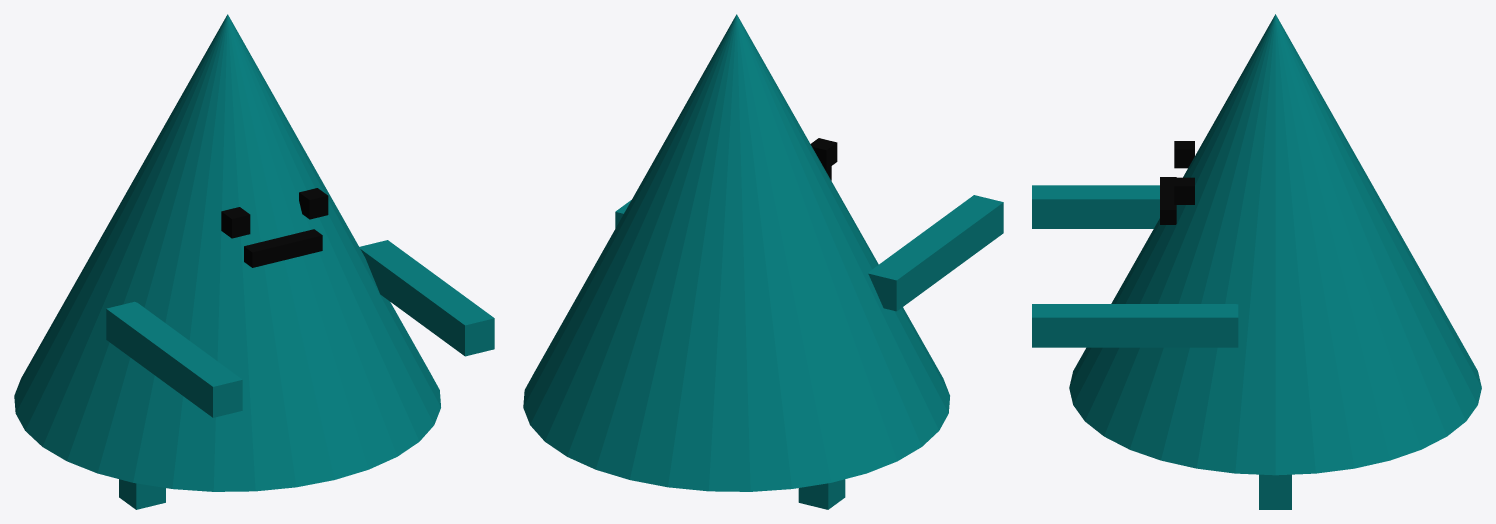
The model's file is friends.obj.
3 views of the same model, side by side, from view 1: azimuth 30°, elevation 25°; view 2: azimuth 150°, elevation 25°; view 3: azimuth 270°, elevation 25° (orthographic). The views are drawn at different scales.
Visible parts, largest first — view 1: Cone, Cube.014, Cube.011, Cube.008, Cube.013, Cube.010, Cube.009; view 2: Cone, Cube.014, Cube.013, Cube.010; view 3: Cone, Cube.011, Cube.014, Cube.012, Cube.008, Cube.009, Cube.010.
Part boxes in pixels (x1,y1,x2,y2): Cone: [14, 14, 440, 491]; Cube.014: [106, 301, 242, 417]; Cube.011: [359, 240, 494, 356]; Cube.008: [244, 229, 322, 267]; Cube.013: [119, 479, 165, 509]; Cube.010: [221, 207, 250, 238]; Cube.009: [299, 188, 328, 219]; Cone: [523, 14, 949, 491]; Cube.014: [868, 195, 1003, 311]; Cube.013: [798, 479, 845, 509]; Cube.010: [810, 138, 837, 169]; Cone: [1069, 14, 1481, 475]; Cube.011: [1032, 304, 1238, 347]; Cube.014: [1032, 185, 1159, 228]; Cube.012: [1259, 474, 1291, 509]; Cube.008: [1160, 177, 1176, 224]; Cube.009: [1174, 177, 1194, 204]; Cube.010: [1174, 141, 1194, 168].
Size of the model in its own units: 2 by 2.4 by 2.18.
8 materials, 8 textured.
